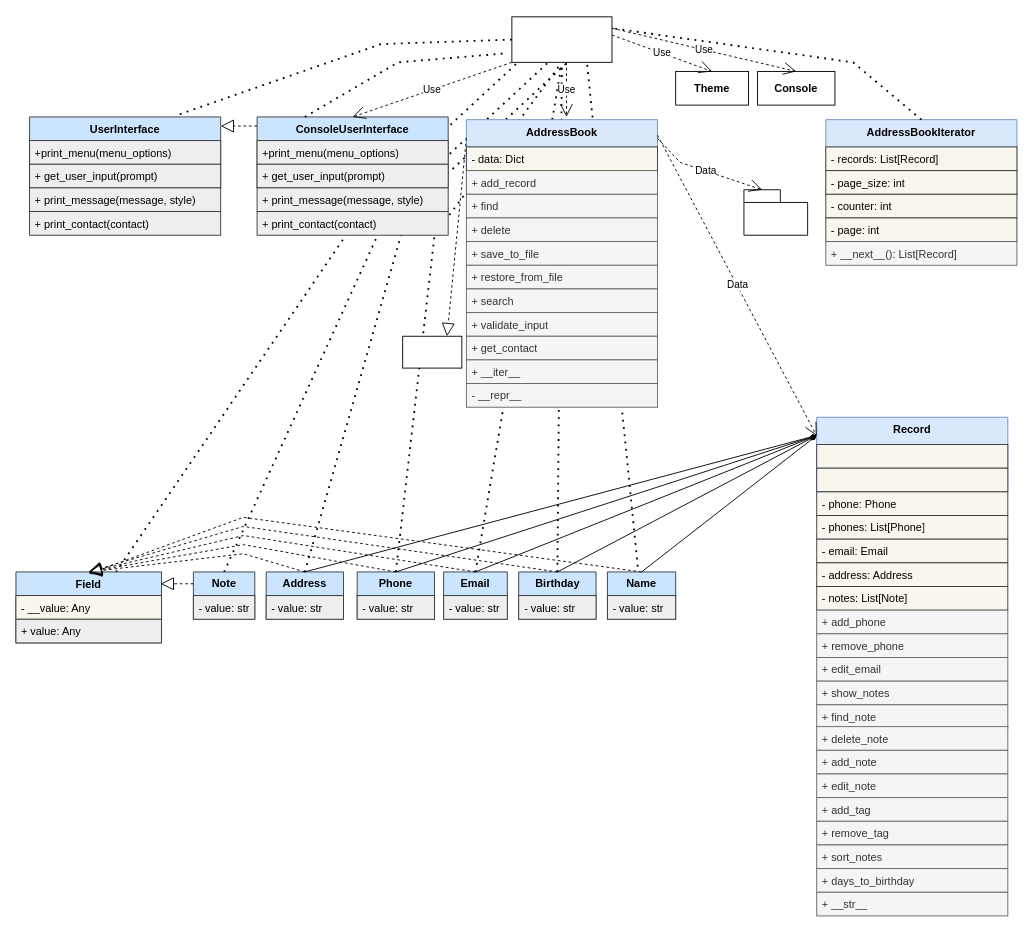
This 1033x934 diagram has some shape labels left out. The centre of each missing label's shape, as x and y in pixels:
"- birthday: Birthday" belongs at (x=912, y=479).
"- name: Name" belongs at (x=912, y=456).
"main_py" belongs at (x=561, y=39).
"pickle" belongs at (x=775, y=212).
"UserDict" belongs at (x=432, y=351).
